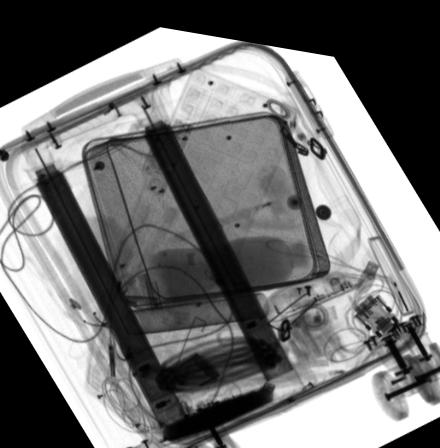Powerbank: (154, 374, 273, 442)
